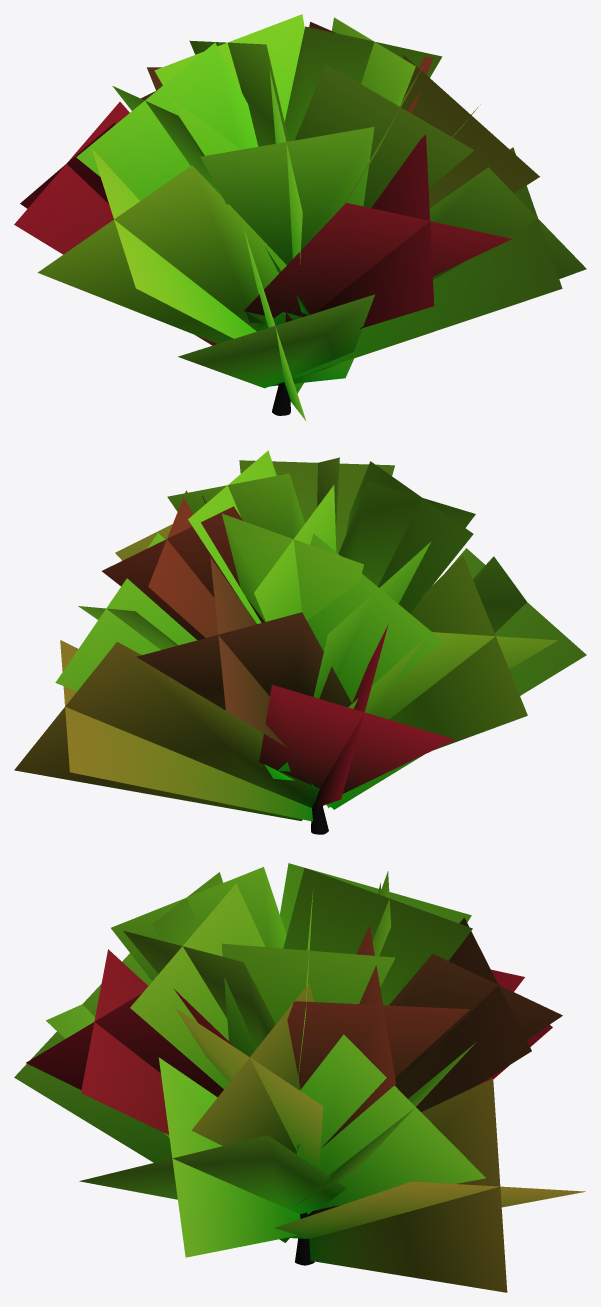
Rendered from Bush_8_1.fbx.
The picture shows the model from 3 angles, top to bottom: view 1: azimuth 30°, elevation 25°; view 2: azimuth 150°, elevation 25°; view 3: azimuth 270°, elevation 25°; orthographic projection. The views are drawn at different scales.
Visible parts, largest first — view 1: _1; view 2: _1; view 3: _1.
Part boxes in pixels (x1,y1,x2,y2): _1: (14, 14, 586, 420); _1: (14, 450, 586, 834); _1: (14, 863, 585, 1292).
Size of the model in its own units: 639 by 477 by 635.
